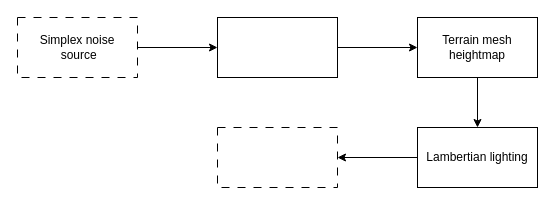
The diagram is 555 pixels wide and 205 high, and some of its shapes have lost their labels. Each missing label, with the centre of its shape:
Fractional Brownian Motion generator: the point at 277,47
Render to camera: the point at 277,157
